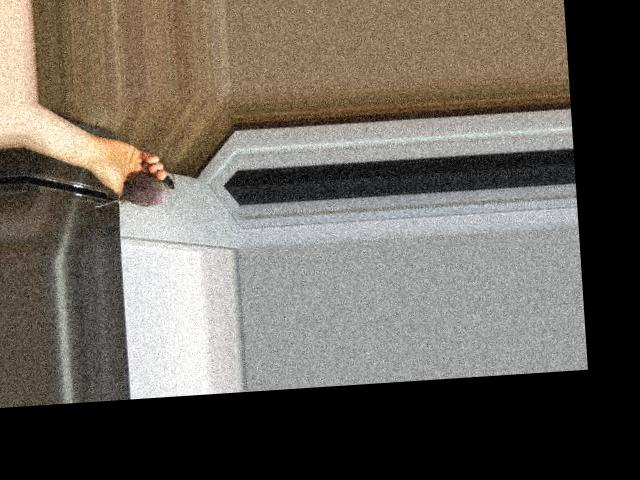beet: (93, 172, 177, 209)
